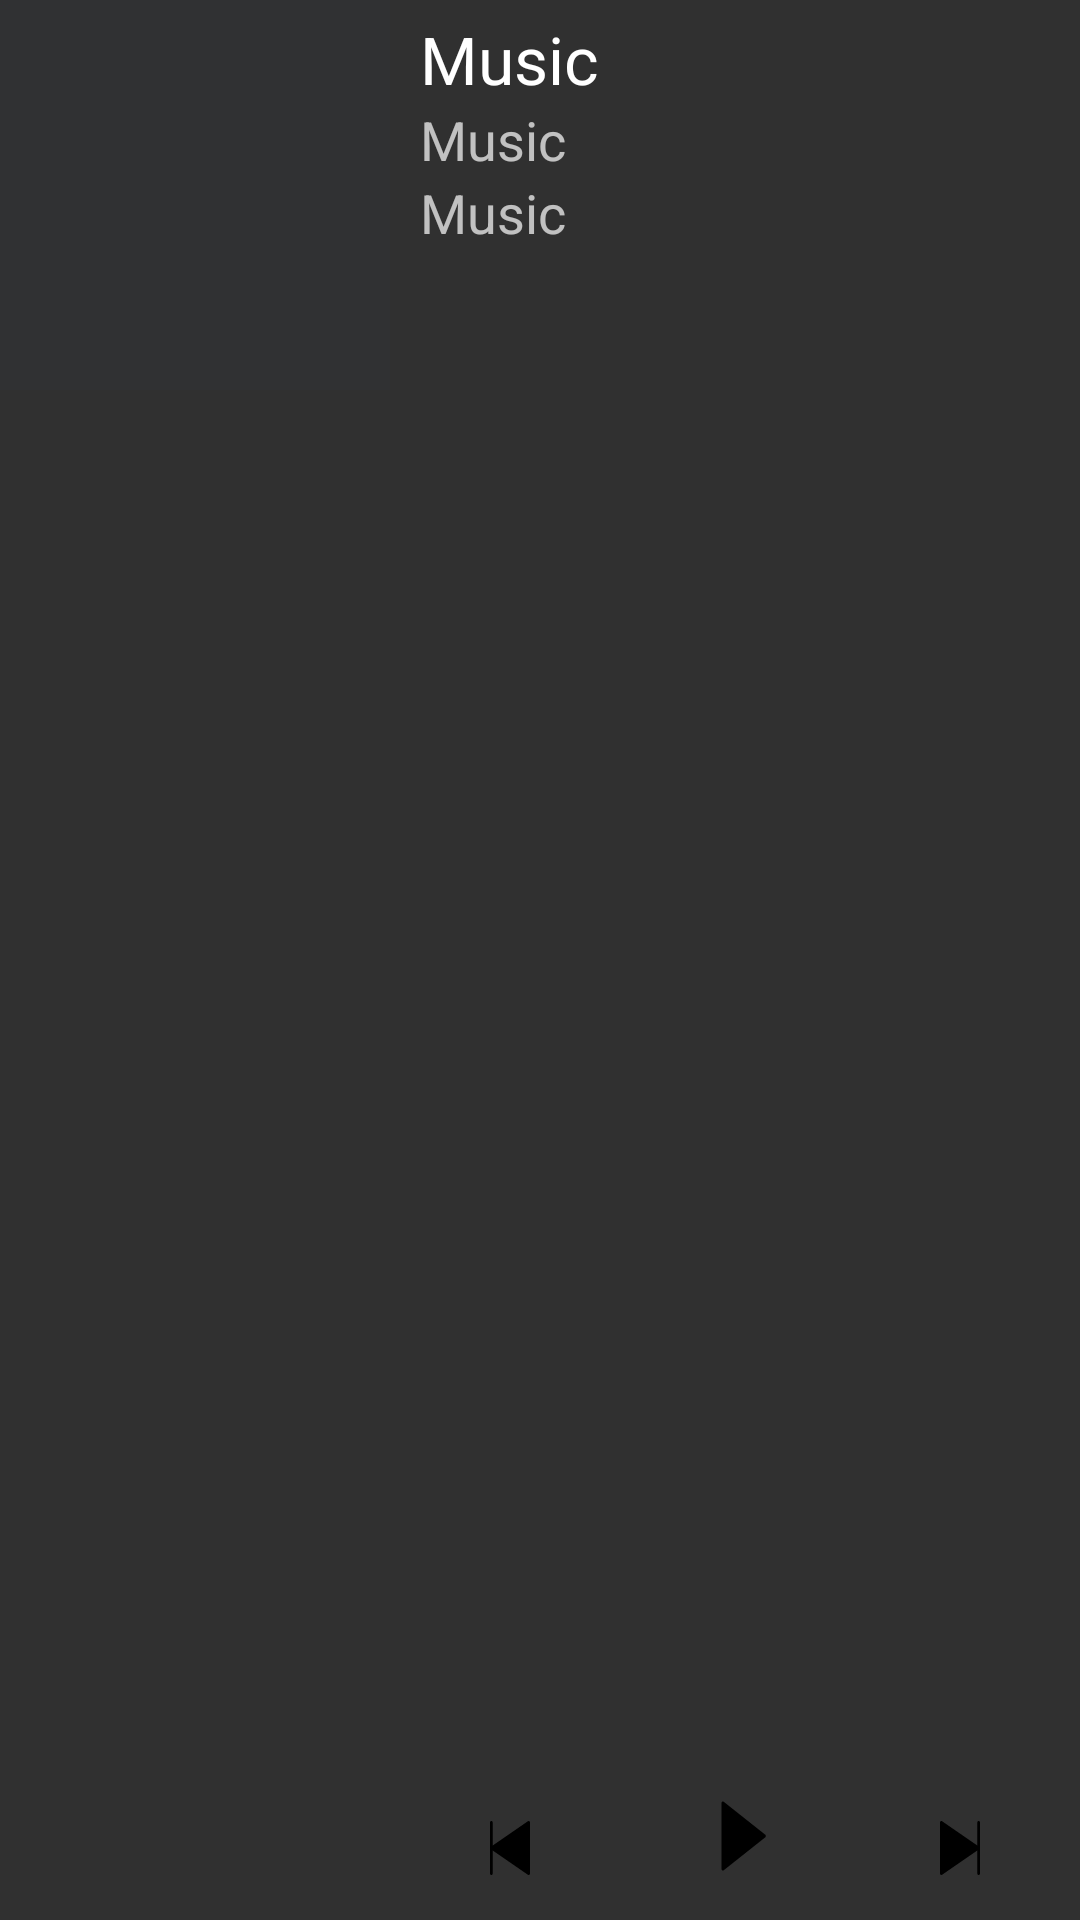

Icons on this 1080px x 1920px Android screen, each with the point to tap as (x,y):
play: (744,1836)
